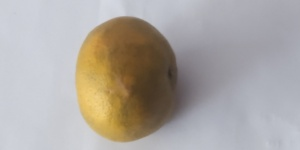BAD: (74, 14, 180, 143)
